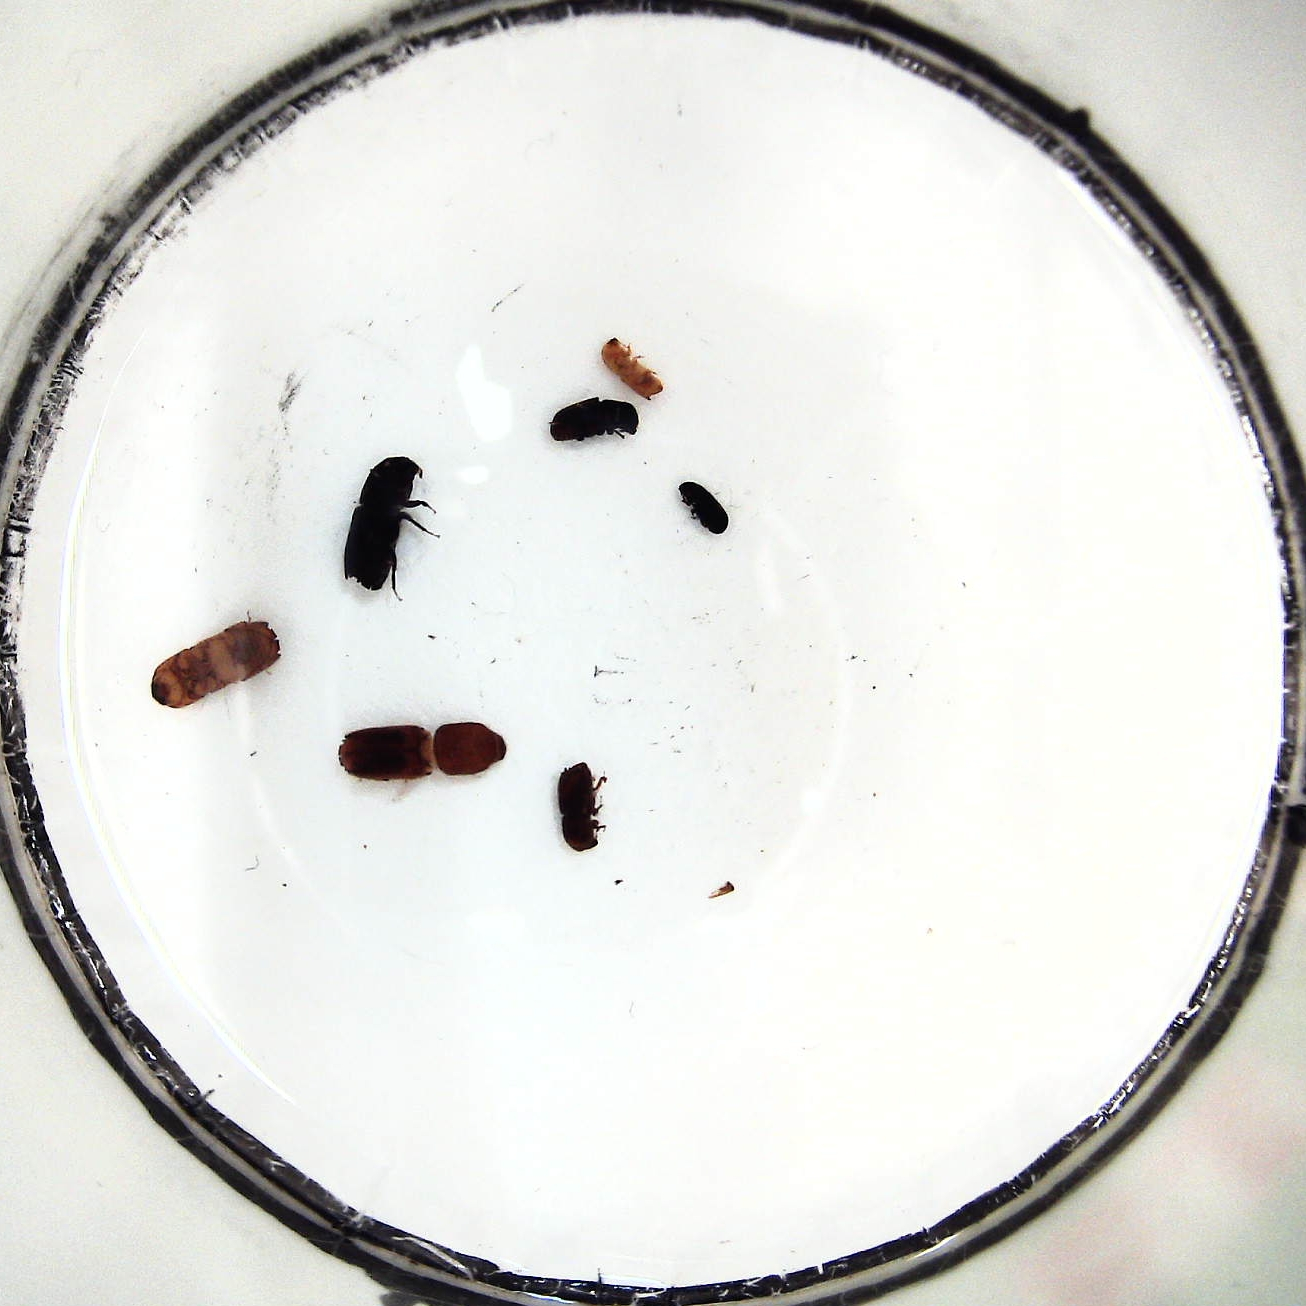Boerner: (148, 616, 281, 713), (338, 454, 431, 592), (332, 719, 511, 788)
Linnaeus: (555, 759, 609, 855)
acuminatus: (599, 336, 666, 396)
armandi: (548, 395, 643, 448)
coleoptera: (675, 475, 730, 539)
